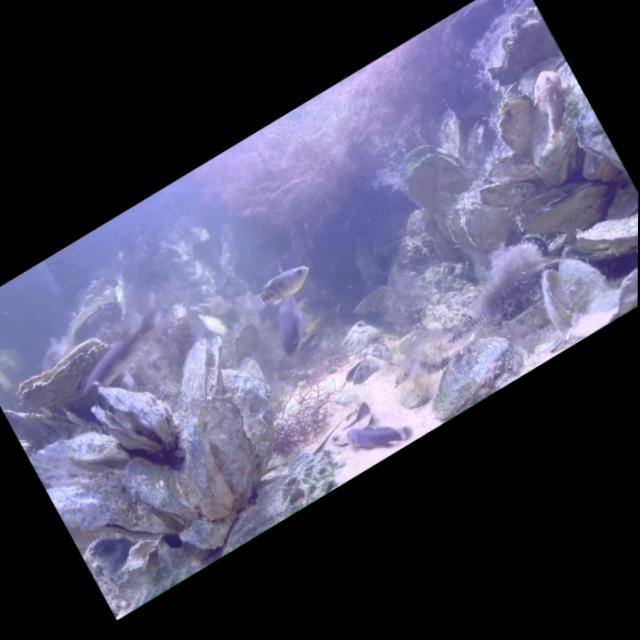Oyster-Closed: (496, 52, 615, 194), (11, 328, 122, 419), (187, 385, 274, 501), (157, 409, 242, 527), (517, 166, 623, 260), (2, 375, 86, 466), (484, 84, 555, 164), (573, 194, 638, 279)
Oyster-Indeterminate: (45, 433, 184, 585), (212, 348, 299, 466), (118, 437, 205, 545), (78, 521, 156, 614), (61, 414, 132, 491), (473, 159, 543, 225), (429, 102, 477, 165)
Oyster-Open: (81, 356, 188, 482), (528, 241, 621, 344), (160, 325, 246, 417), (386, 133, 464, 222), (57, 285, 129, 353), (340, 352, 381, 390)
